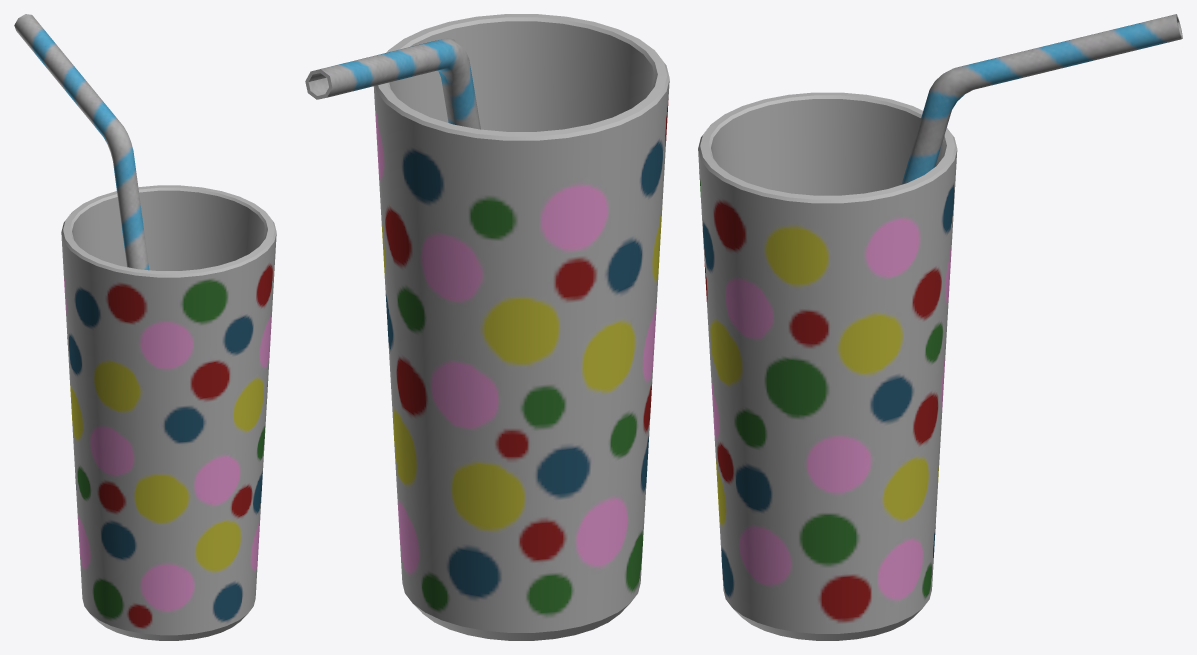
File: verre3.fbx
The picture shows the model from 3 angles, left to right: view 1: azimuth 30°, elevation 25°; view 2: azimuth 150°, elevation 25°; view 3: azimuth 270°, elevation 25°; orthographic projection. The views are drawn at different scales.
Visible parts, largest first — view 1: SM_cup_blue_straw__2_; view 2: SM_cup_blue_straw__2_; view 3: SM_cup_blue_straw__2_.
Boxes of the visible parts, <box> form: SM_cup_blue_straw__2_: <box>14,14,276,640</box>; SM_cup_blue_straw__2_: <box>305,14,669,640</box>; SM_cup_blue_straw__2_: <box>698,14,1182,640</box>.
Bounding box in the file's own units: 8.03 × 20.28 × 15.09.
